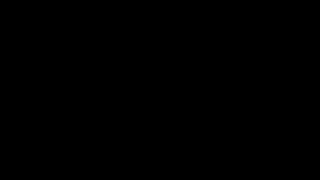turn_left: (183, 55, 200, 72)
